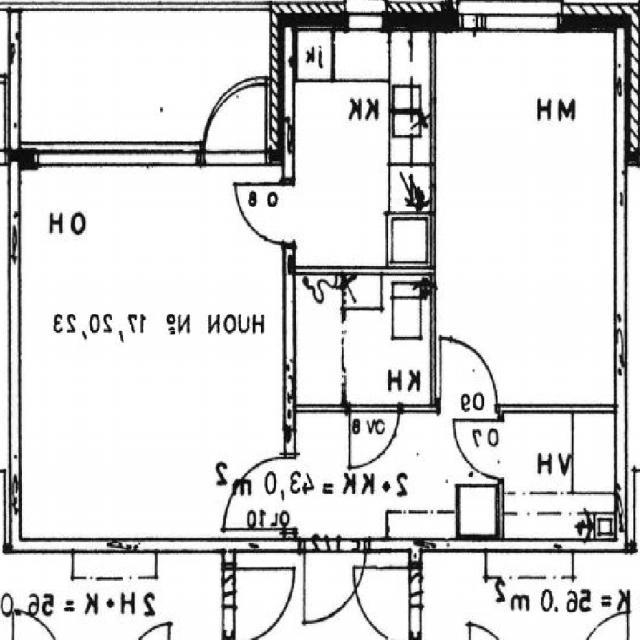door: (204, 74, 266, 166), (305, 539, 367, 629), (224, 458, 295, 530), (441, 336, 496, 412), (233, 184, 295, 245), (349, 404, 399, 474), (450, 419, 504, 478)
